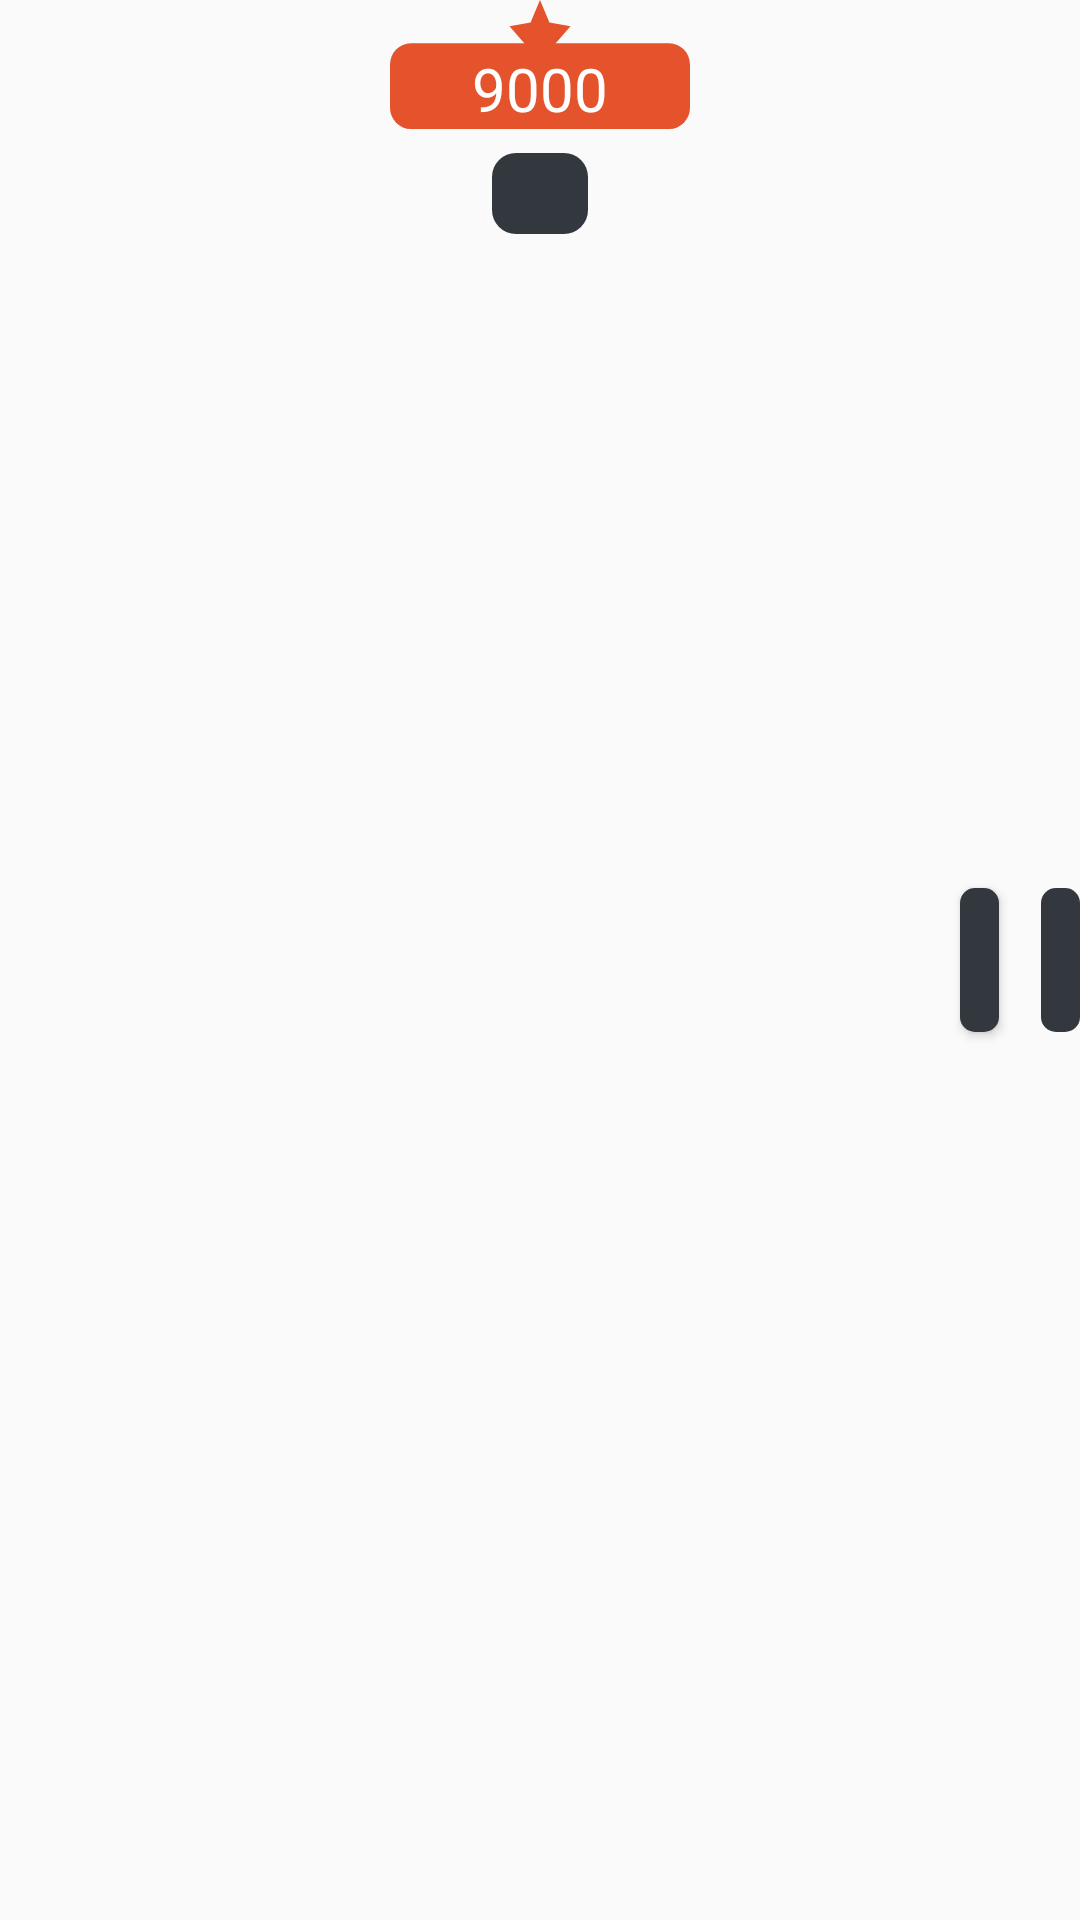

Point at icon controls on the screen. Image size 1080w x 1920h, points as point (x, y).
pause: point (1020, 960)
